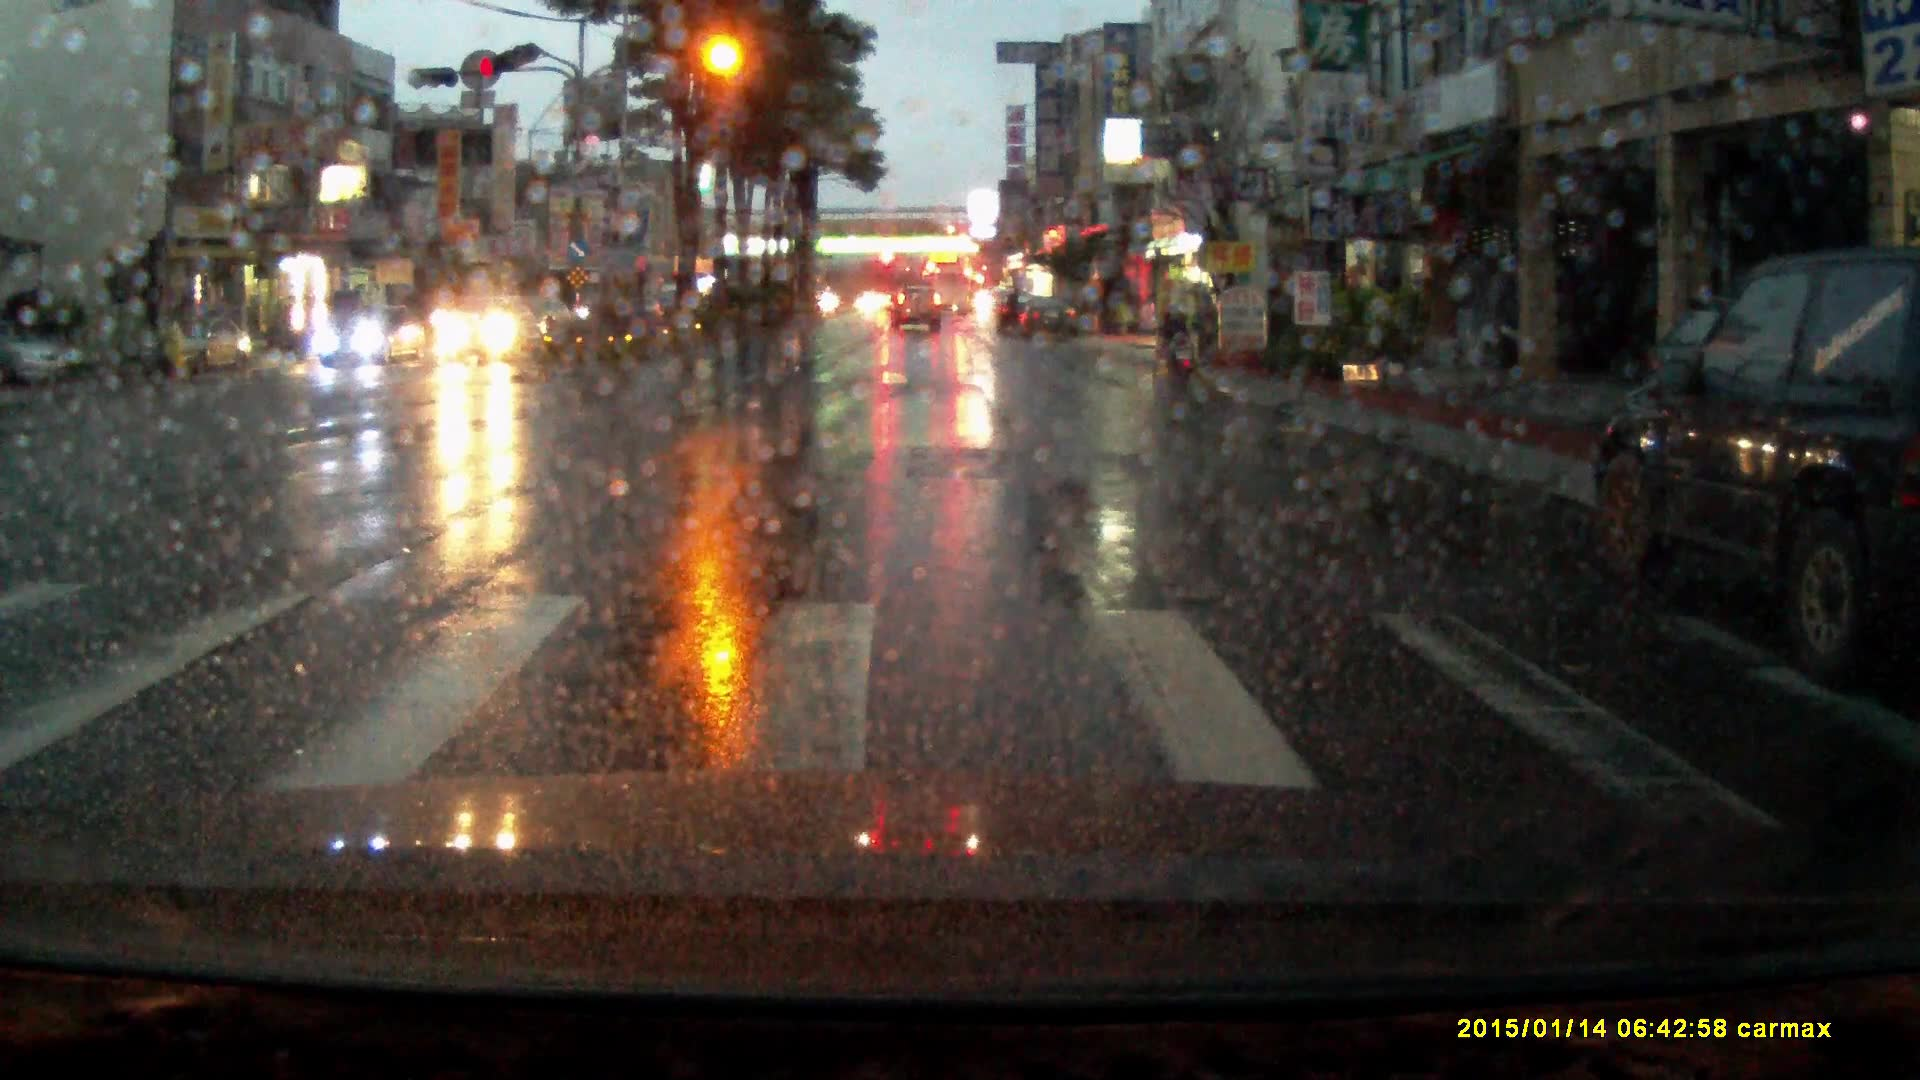rider: (139, 307, 199, 385)
vehicle: (1582, 248, 1920, 683), (317, 303, 430, 372), (440, 291, 546, 364), (139, 313, 253, 378), (542, 273, 652, 331), (1, 322, 68, 387), (1017, 299, 1079, 342), (892, 286, 943, 335), (928, 264, 968, 319), (987, 289, 1031, 336), (860, 290, 897, 319)
